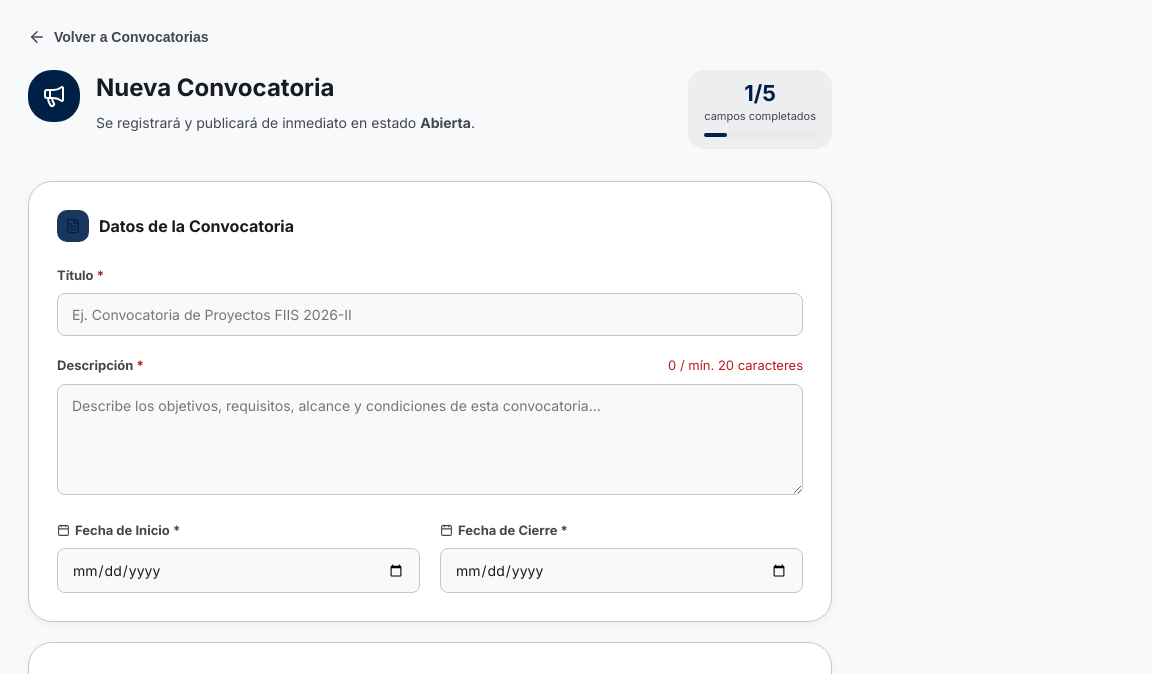
NewConvocatoria › validates title minimum length on blur
Type "AB" into the field labelled "Título *" at (430, 314), box left=57, top=293, right=803, bottom=336
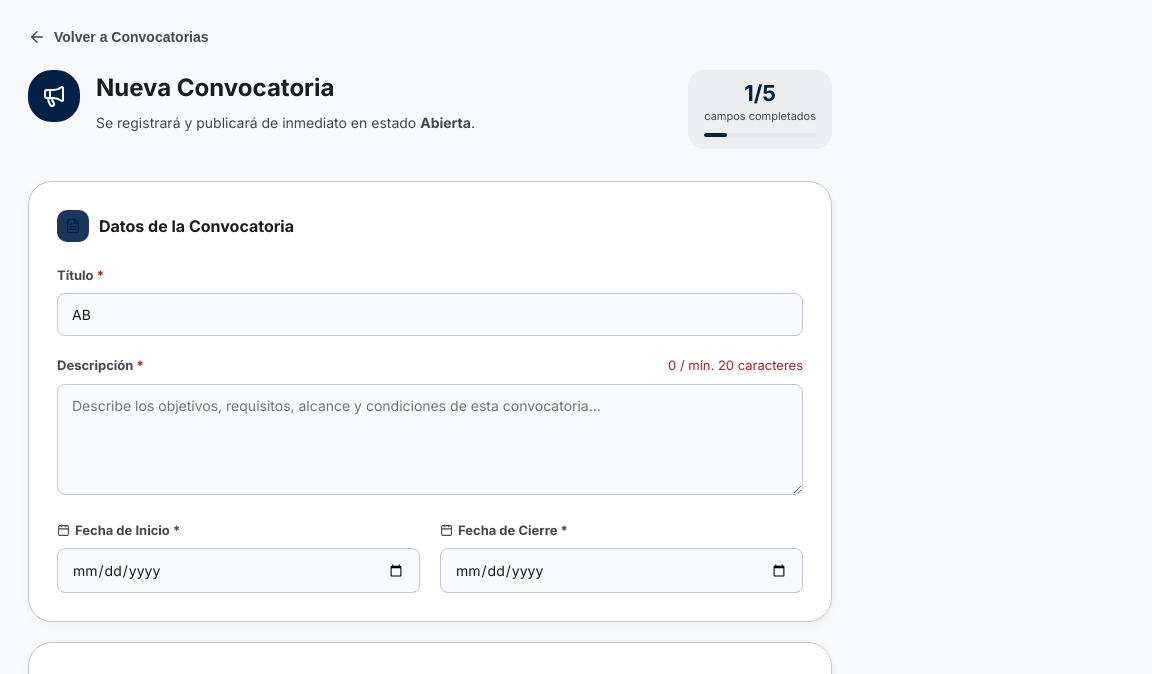
Leave the field labelled "Título *", box left=57, top=293, right=803, bottom=336
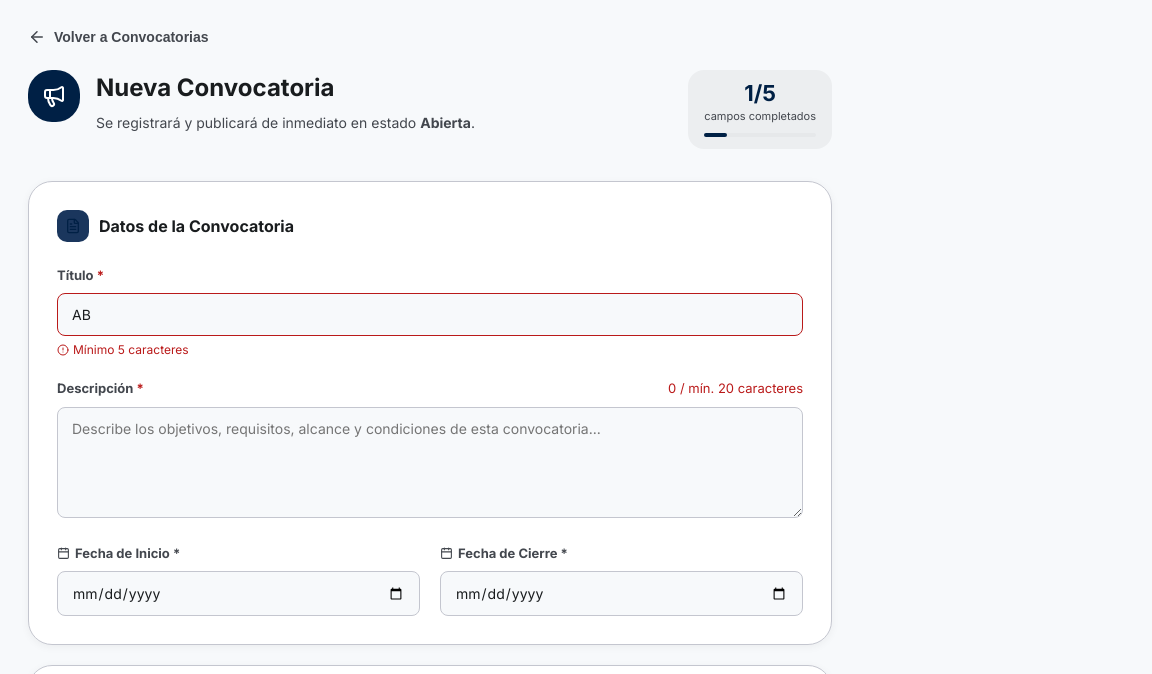
Result: the text "Mínimo 5 caracteres" is shown at left=57, top=342, right=189, bottom=357
